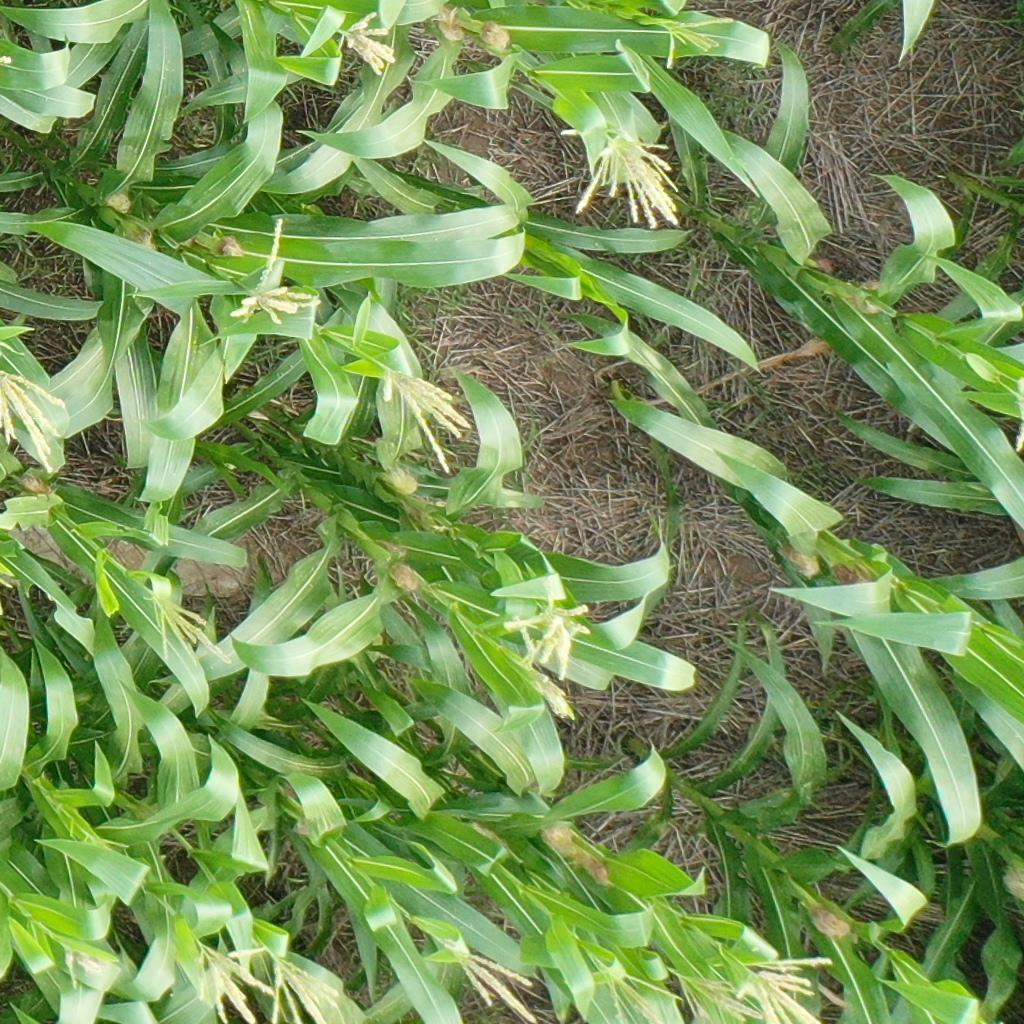Tassel: (556, 111, 691, 231), (225, 219, 325, 327), (379, 366, 473, 477), (500, 577, 593, 682), (442, 941, 540, 1024), (1, 368, 74, 476), (192, 941, 274, 1024), (738, 955, 836, 1024), (147, 594, 231, 669), (588, 958, 682, 1024), (266, 954, 340, 1024), (674, 968, 766, 1024), (658, 15, 737, 70), (336, 7, 398, 70), (520, 664, 573, 725), (56, 944, 110, 990)
